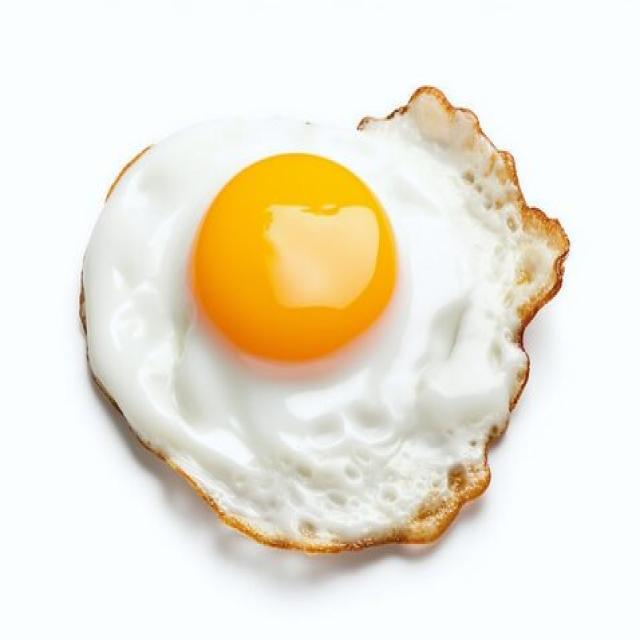Egg: (81, 90, 569, 550)
